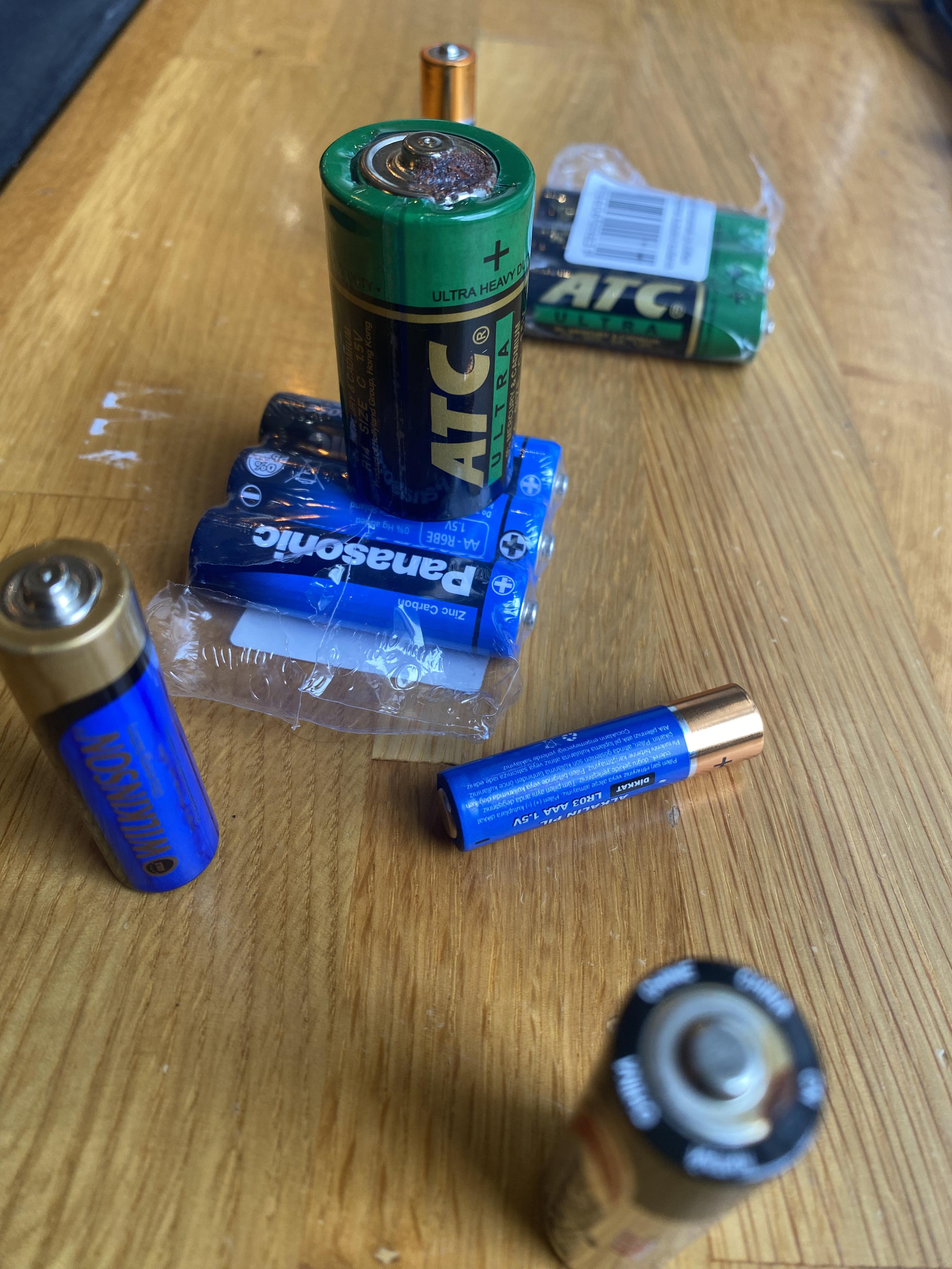AA: (0, 522, 233, 941)
AAA: (434, 681, 766, 852)
